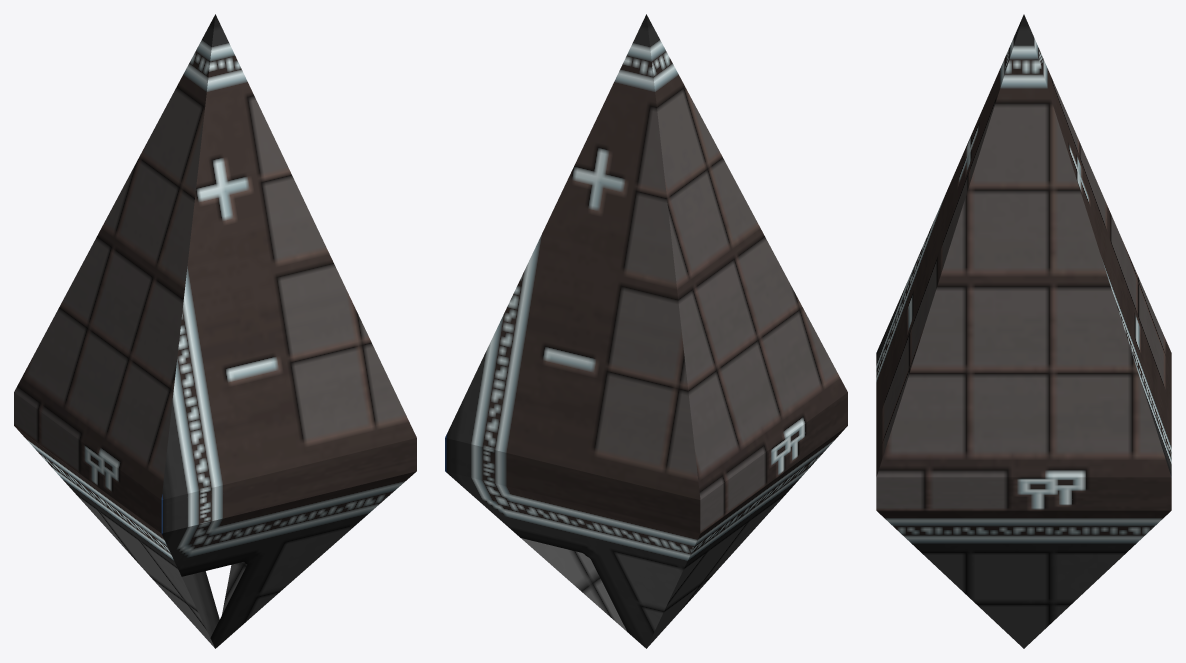
The model's file is seer_stone_crystal.obj.
The picture shows the model from 3 angles, left to right: view 1: azimuth 30°, elevation 25°; view 2: azimuth 150°, elevation 25°; view 3: azimuth 270°, elevation 25°; orthographic projection.
Visible parts, largest first — view 1: Cube_Cube.001; view 2: Cube_Cube.001; view 3: Cube_Cube.001.
Boxes of the visible parts, bbox=[...] form: Cube_Cube.001: bbox=[14, 14, 416, 648]; Cube_Cube.001: bbox=[445, 14, 847, 648]; Cube_Cube.001: bbox=[876, 14, 1171, 648].
Bounding box in the file's own units: 0.25 × 0.5938 × 0.25.
